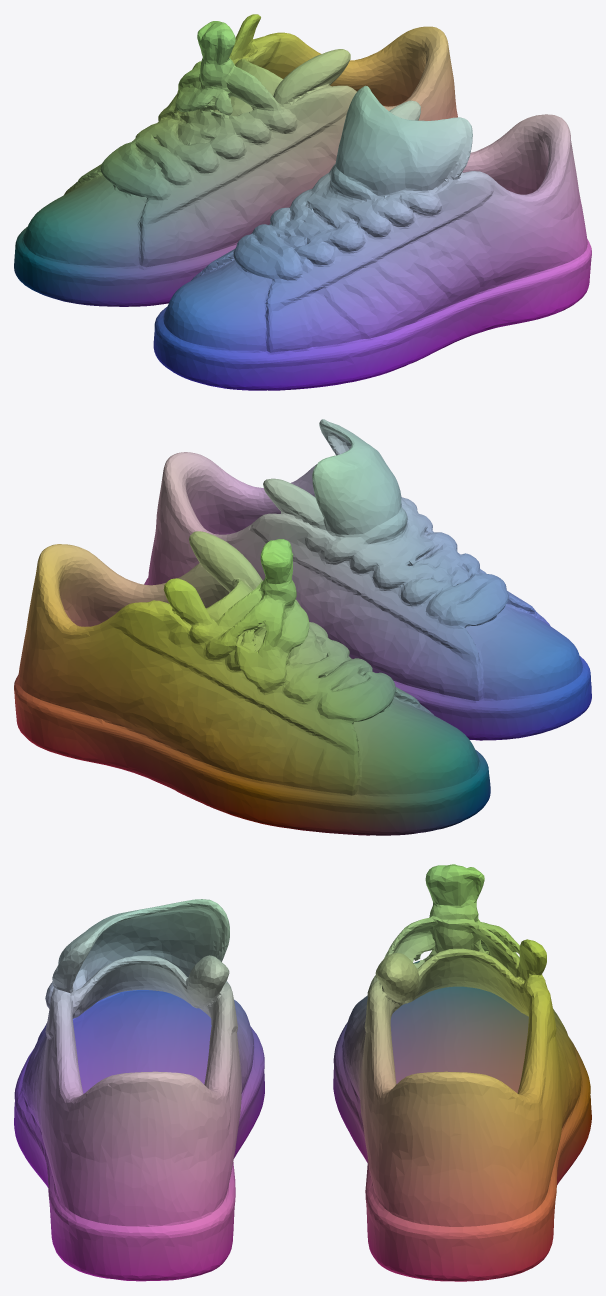
File: shoe-tall.glb
3 renders of one model, top to bottom at view 1: azimuth 30°, elevation 25°; view 2: azimuth 150°, elevation 25°; view 3: azimuth 270°, elevation 25°, orthographic. The views are drawn at different scales.
Parts seen in each view (by area): view 1: tmpxg7zy0vv.ply; view 2: tmpxg7zy0vv.ply; view 3: tmpxg7zy0vv.ply.
Boxes of the visible parts, x1,y1,x2,y2 form: tmpxg7zy0vv.ply: (14, 14, 591, 390); tmpxg7zy0vv.ply: (14, 419, 591, 835); tmpxg7zy0vv.ply: (14, 864, 591, 1281).
Bounding box in the file's own units: 1.96 × 0.9688 × 1.79.
